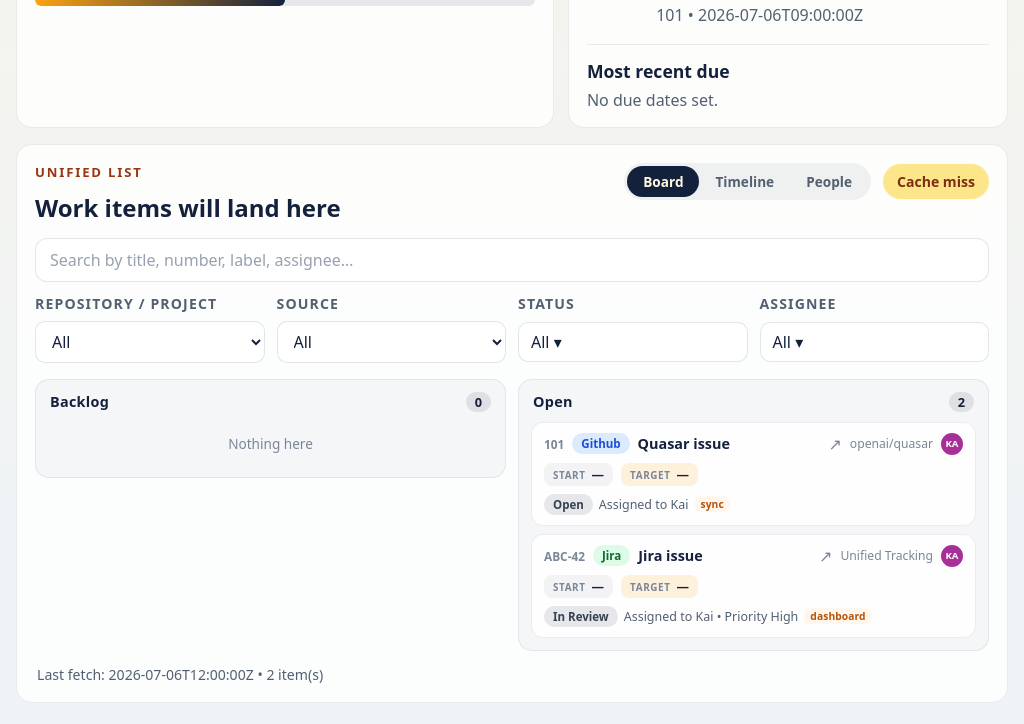
Test case: App shell › resets stale filter selections after refresh when the latest dataset no longer contains them
(page scrolled)
Check: the button "Quasar issue" is shown, box [638, 434, 820, 453]
Select "jira" in the dropdown labelled "Source" at (391, 342), box [276, 321, 506, 363]
(page scrolled)
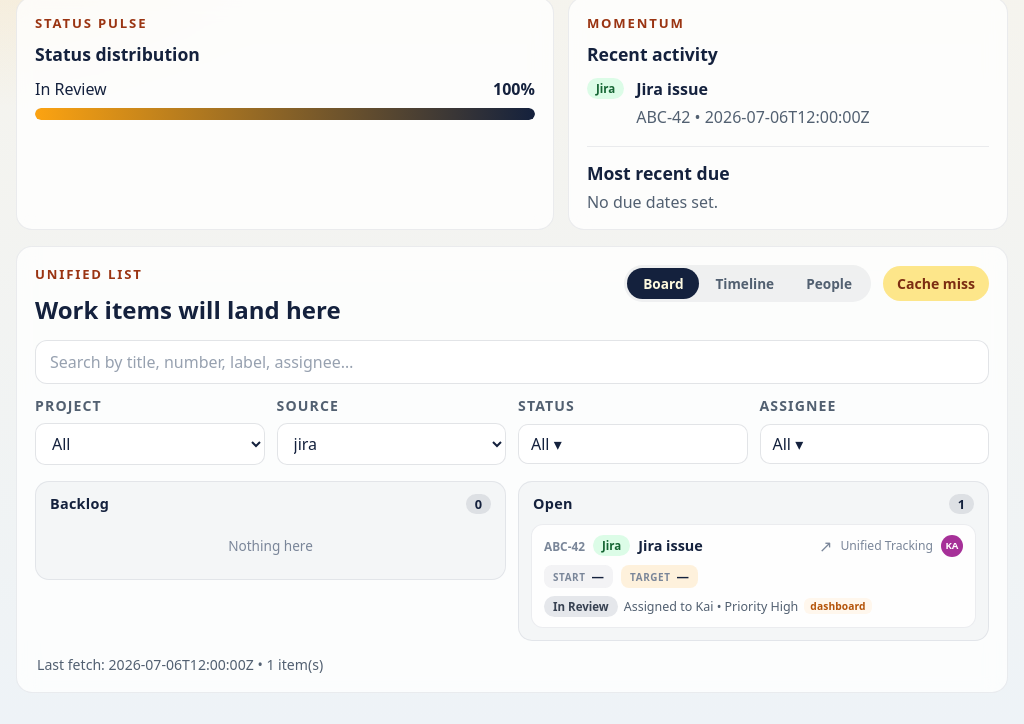
Click the button named "Status" at (633, 444), box [518, 424, 748, 464]
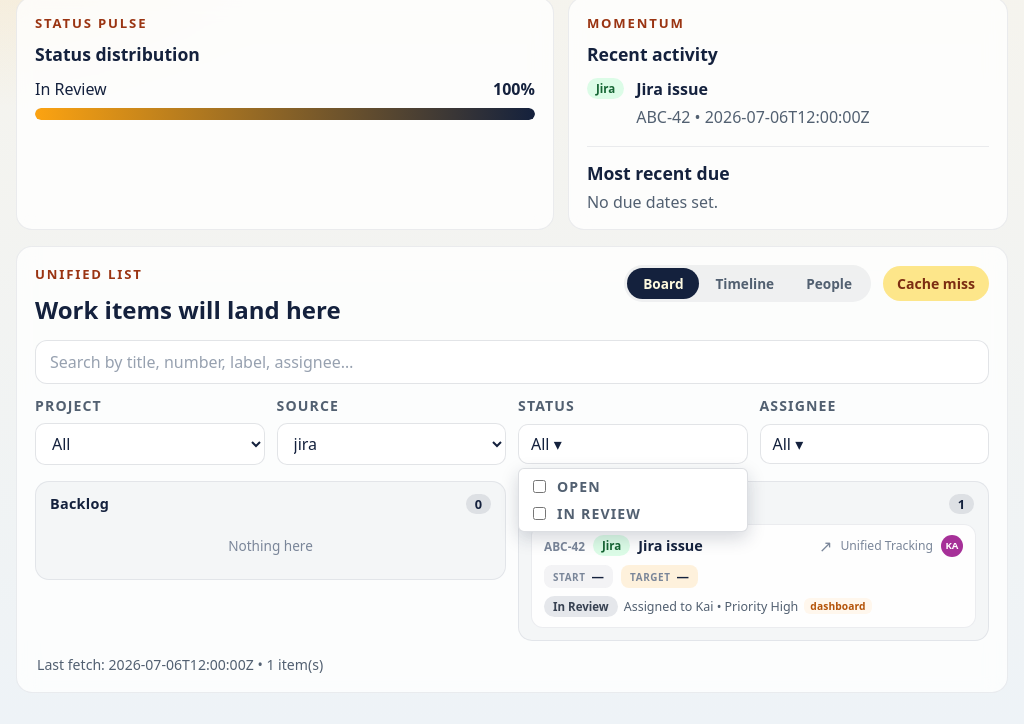
Click the checkbox labelled "open" at (540, 486), box [533, 480, 546, 493]
(page scrolled)
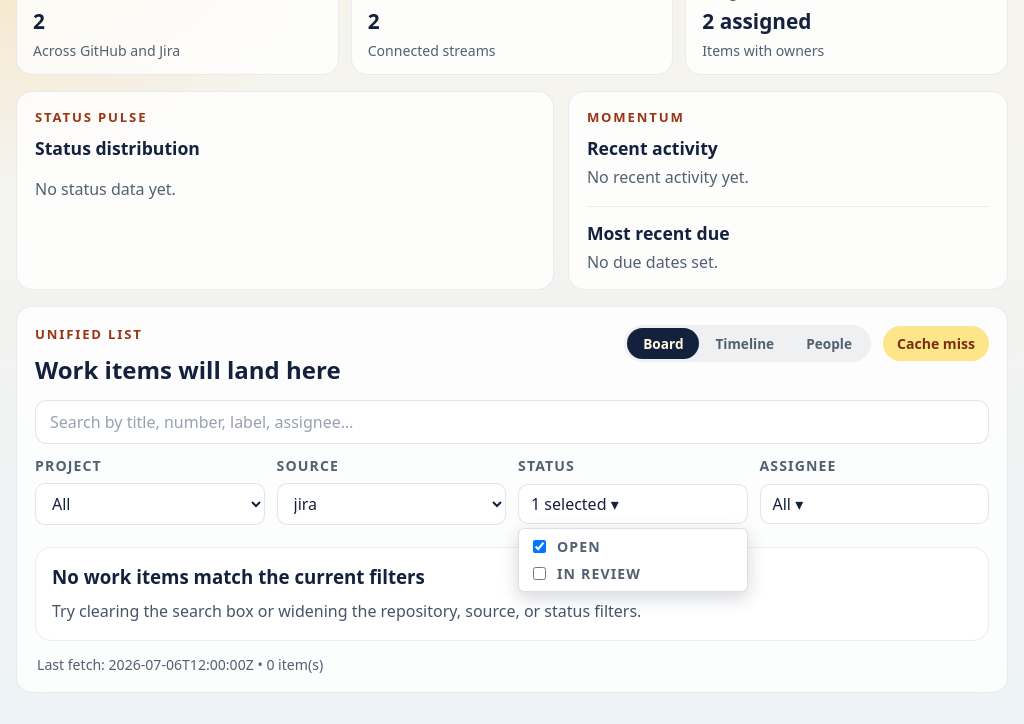
Press Escape
(page scrolled)
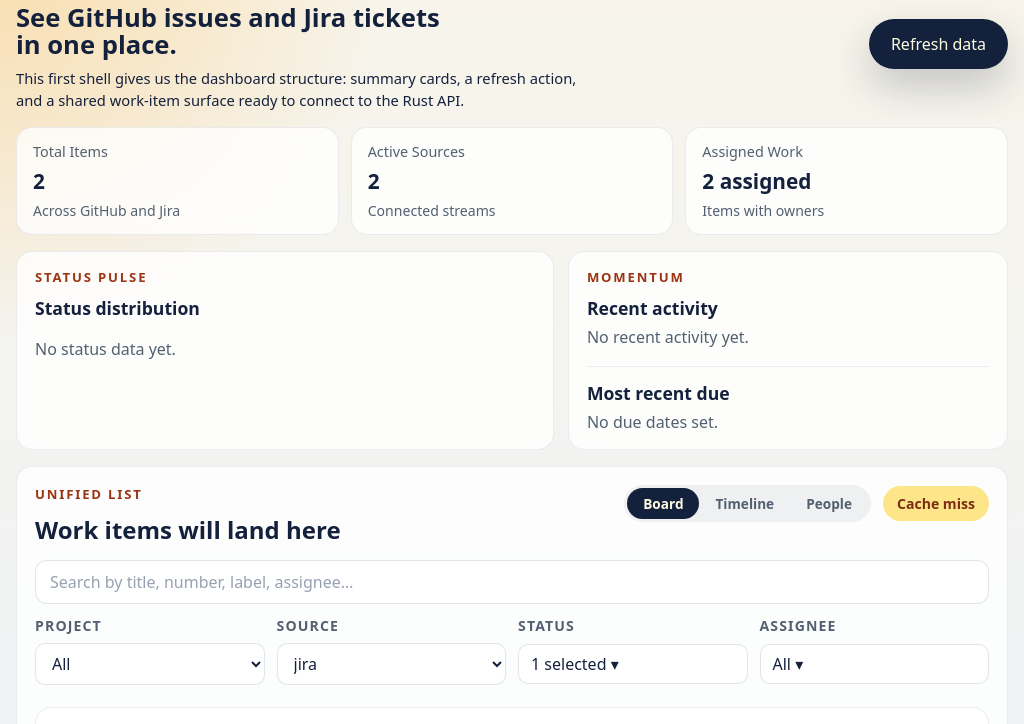
Click the button "Refresh data" at (938, 44), box [869, 19, 1008, 69]
(page scrolled)
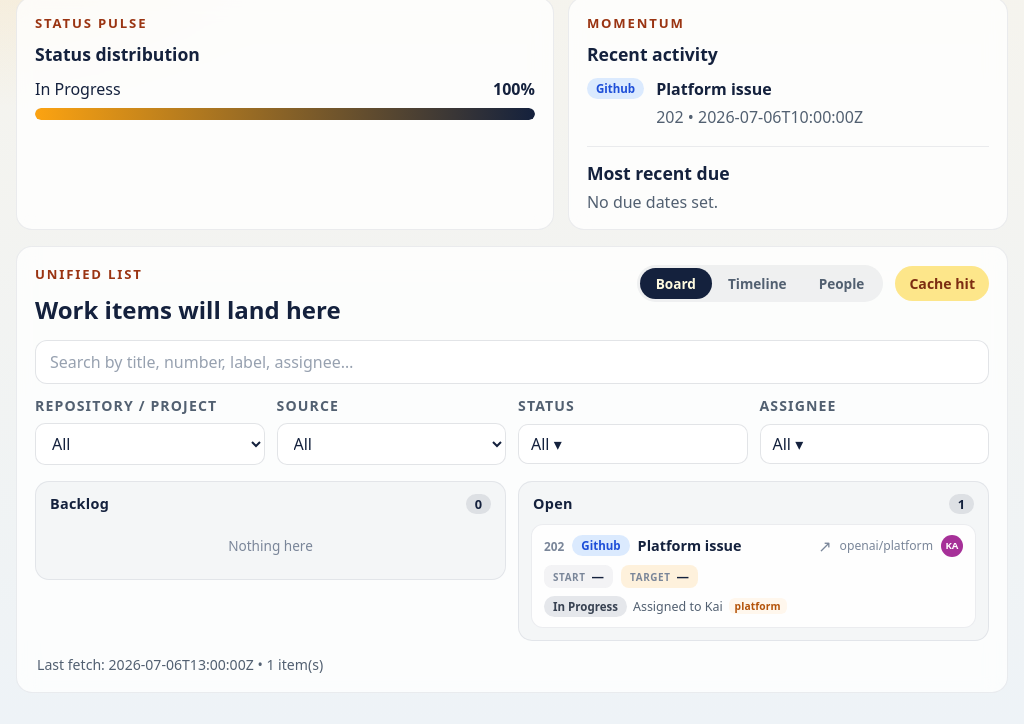
Check: the button "Platform issue" is shown, box [638, 536, 810, 555]
Check: the button named "Status" shows "All", box [518, 424, 748, 464]
Check: the text "Last fetch: 2026-07-06T13:00:00Z • 1 item(s)" is shown, box [37, 655, 323, 674]
